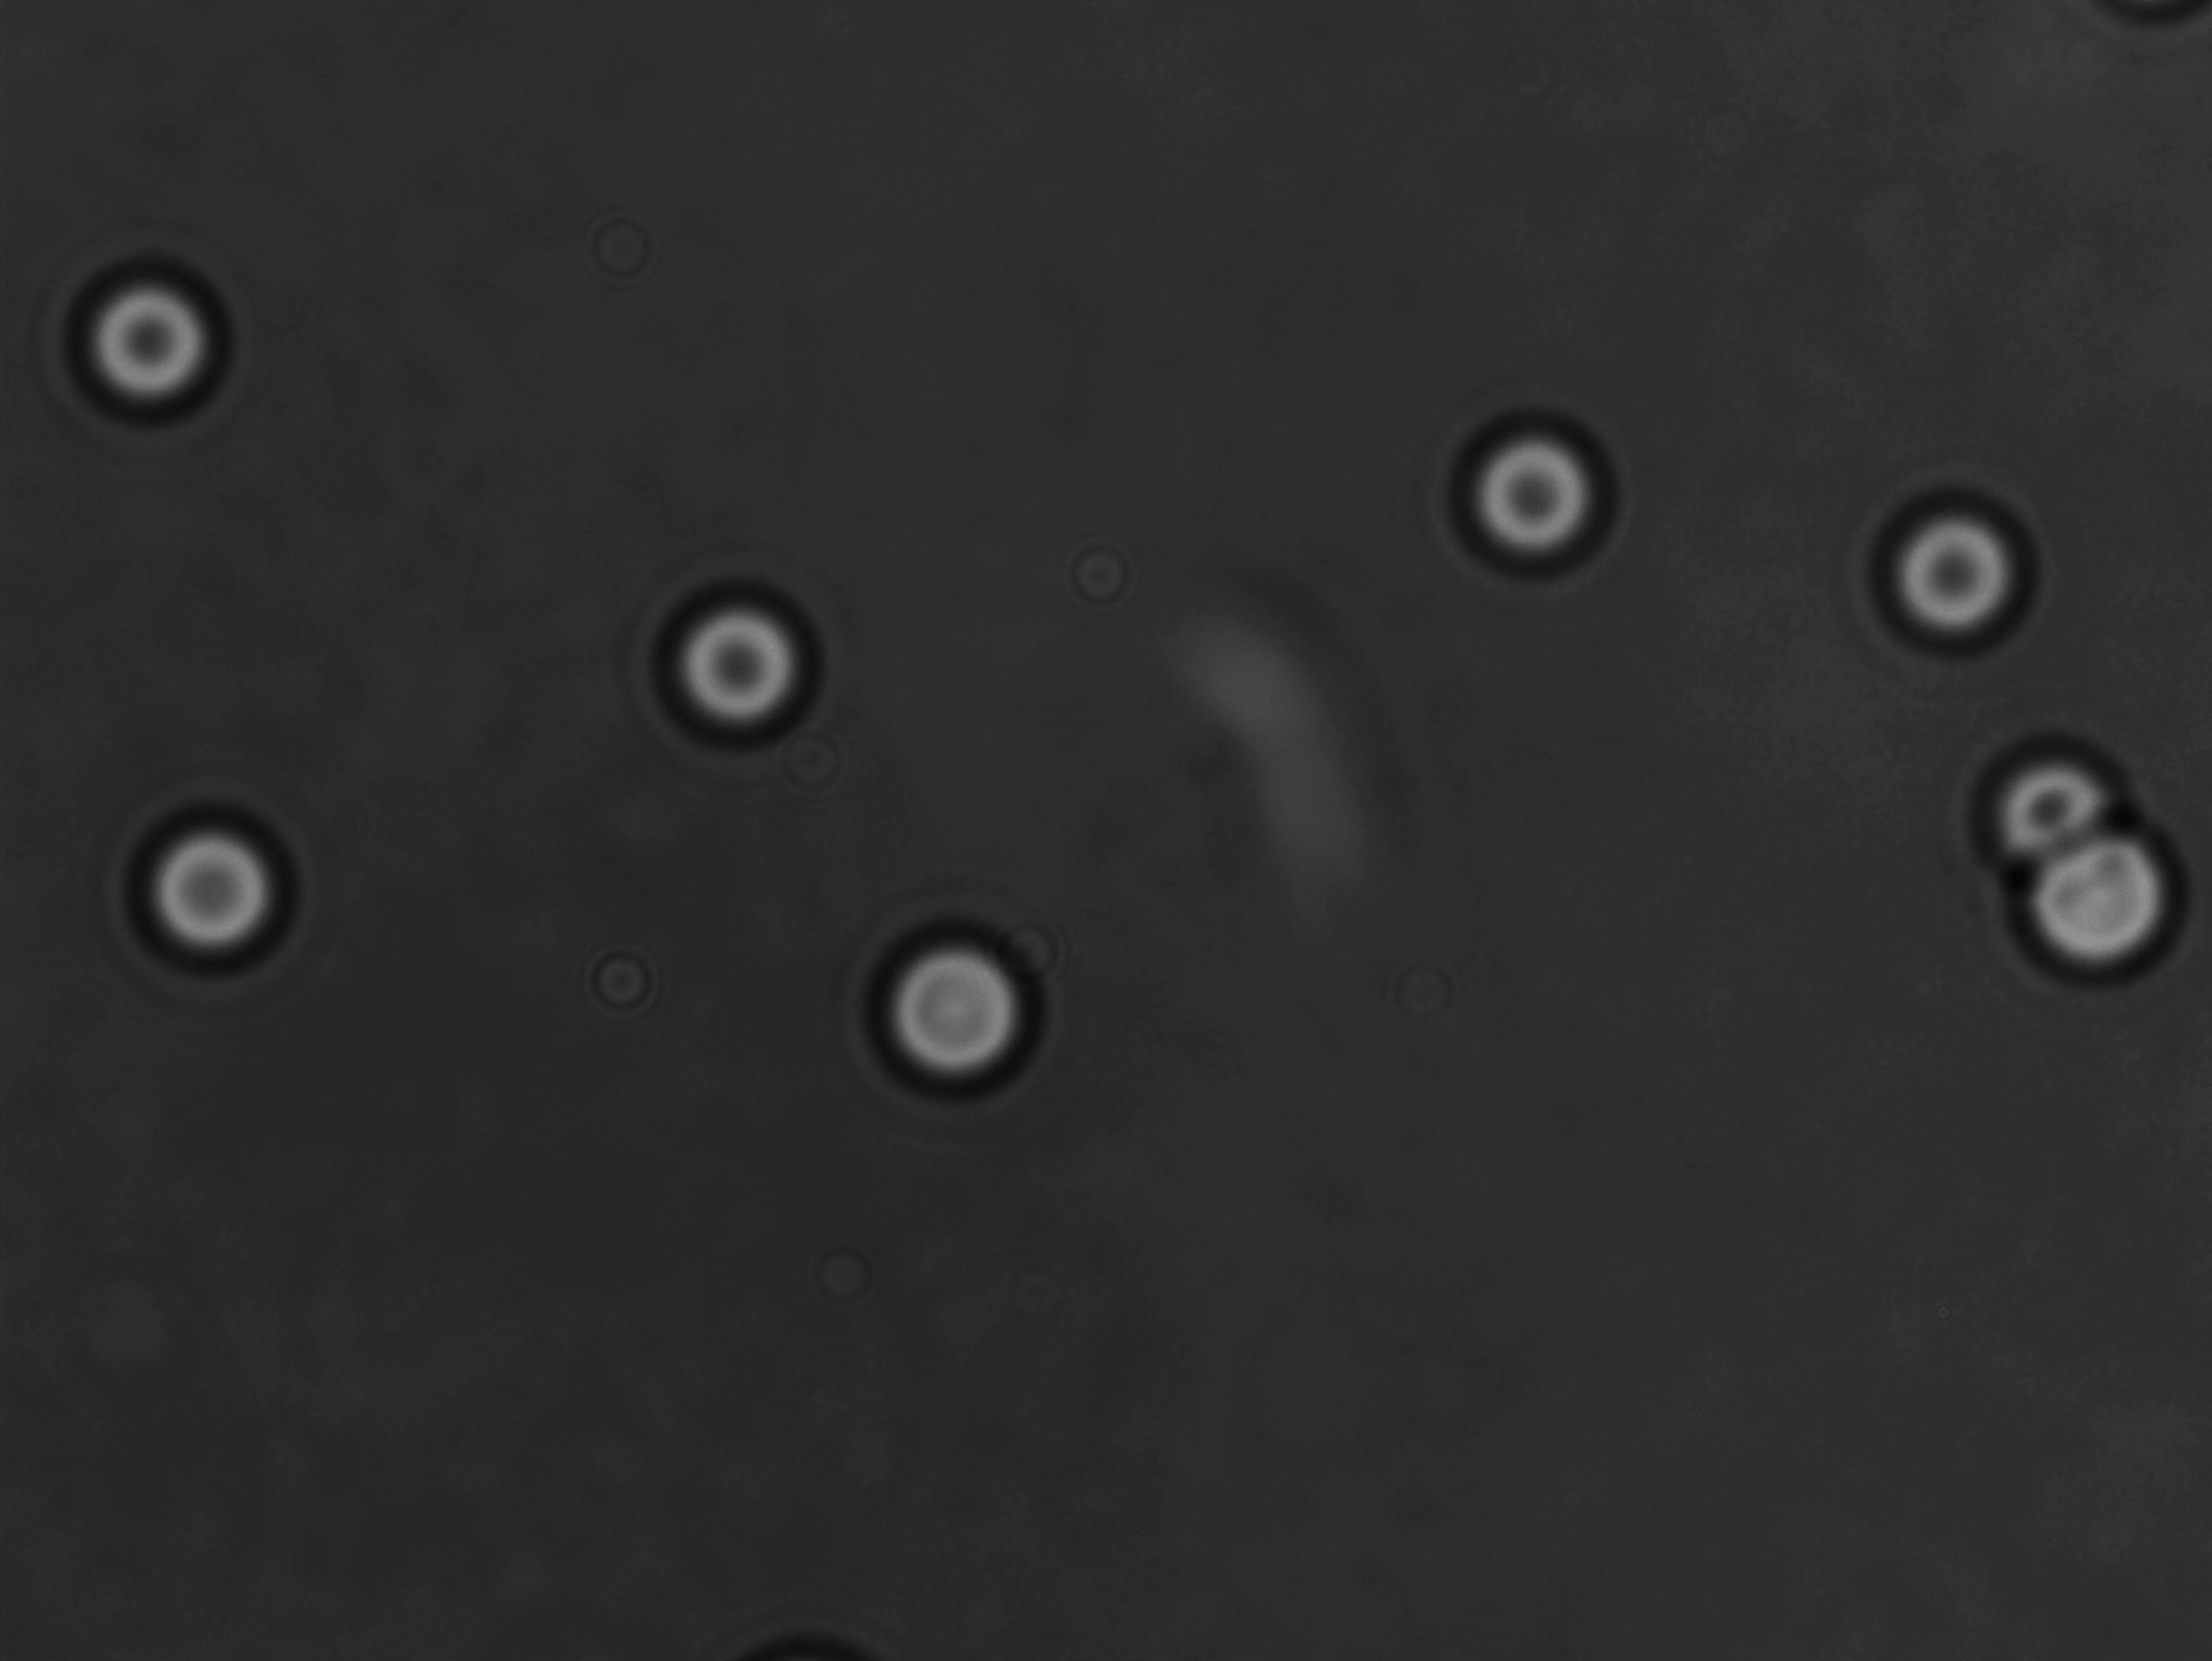depth:80: (1846, 448, 2079, 691), (1429, 384, 1649, 604), (1980, 815, 2212, 1021), (630, 553, 850, 769), (112, 775, 333, 988), (846, 893, 1068, 1104), (51, 234, 258, 429)
